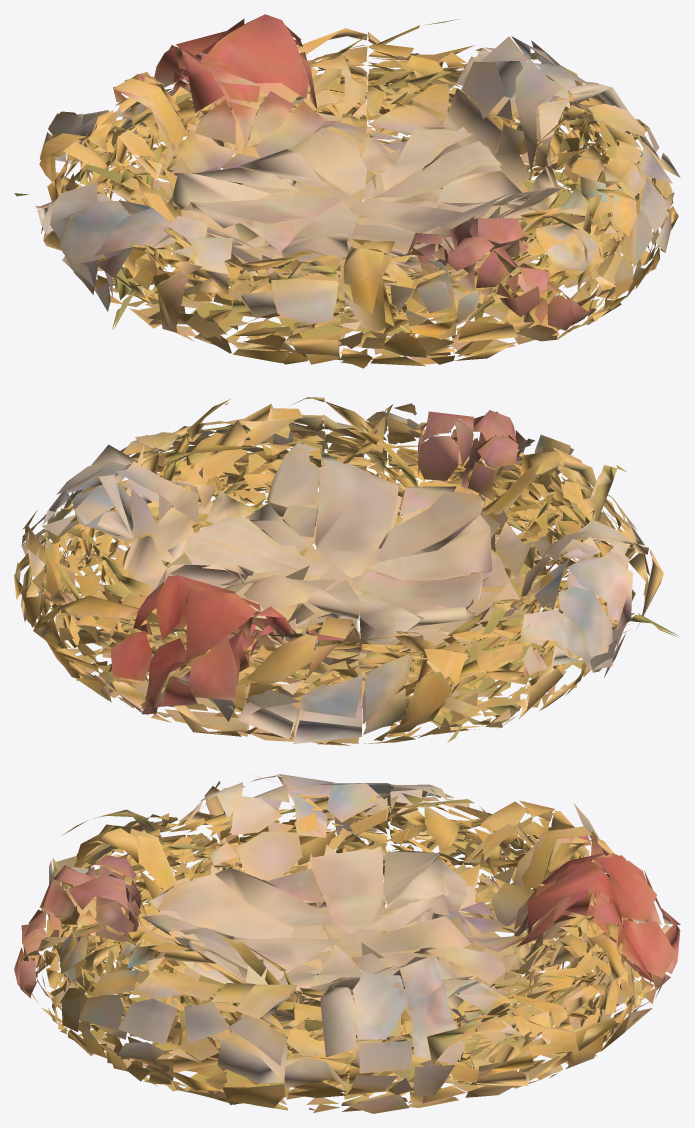
File: nest.glb
The picture shows the model from 3 angles, top to bottom: view 1: azimuth 30°, elevation 25°; view 2: azimuth 150°, elevation 25°; view 3: azimuth 270°, elevation 25°; orthographic projection.
Parts seen in each view (by area): view 1: nest; view 2: nest; view 3: nest.
Boxes of the visible parts, x1=… form: nest: x1=14, y1=14, x2=680, y2=368; nest: x1=14, y1=397, x2=679, y2=745; nest: x1=14, y1=774, x2=680, y2=1113.
Size of the model in its own units: 1.19 by 0.2774 by 1.2.
Materials: 1 (1 with a texture image).
